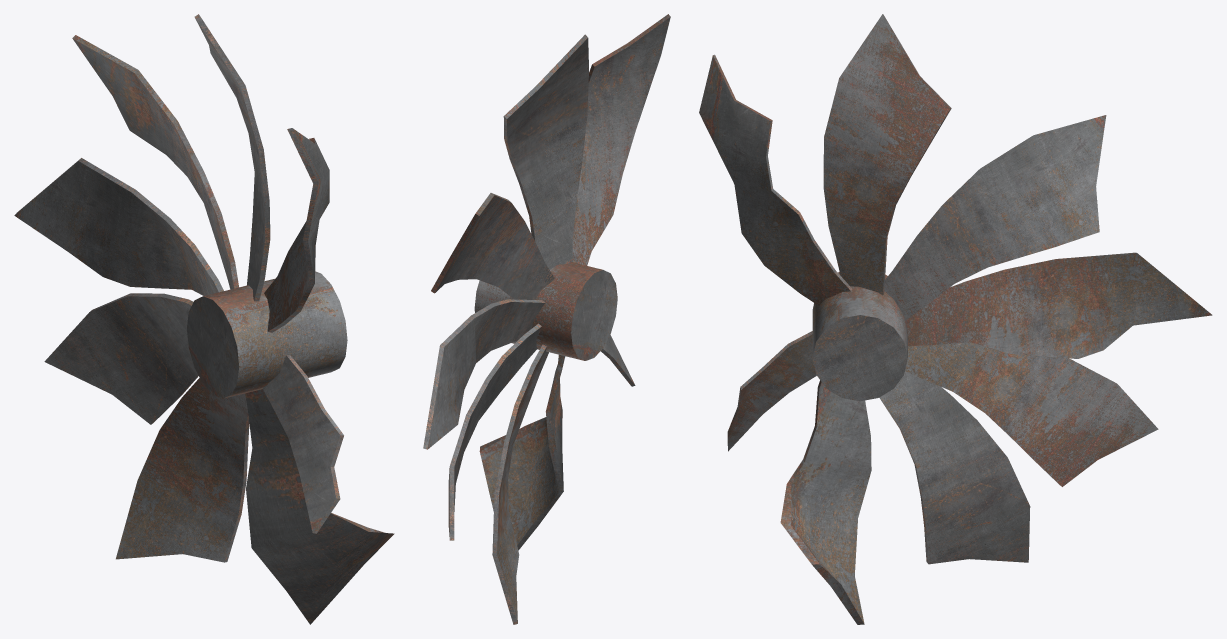
File: BrokenFan01.FBX
3 renders of one model, left to right at view 1: azimuth 30°, elevation 25°; view 2: azimuth 150°, elevation 25°; view 3: azimuth 270°, elevation 25°, orthographic. The views are drawn at different scales.
Parts seen in each view (by area): view 1: BrokenFans01, BrokenFans01Center; view 2: BrokenFans01, BrokenFans01Center; view 3: BrokenFans01, BrokenFans01Center.
Part boxes in pixels (box(x1,y1,x2,y2)): BrokenFans01: box(14, 14, 394, 624); BrokenFans01Center: box(187, 271, 347, 398); BrokenFans01: box(423, 14, 670, 624); BrokenFans01Center: box(474, 262, 617, 360); BrokenFans01: box(699, 14, 1212, 624); BrokenFans01Center: box(812, 272, 907, 401).
Bounding box in the file's own units: 70.88 × 216 × 263.
